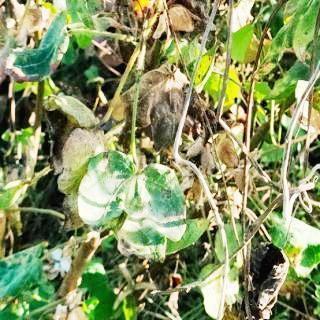curl: (71, 122, 202, 263)
